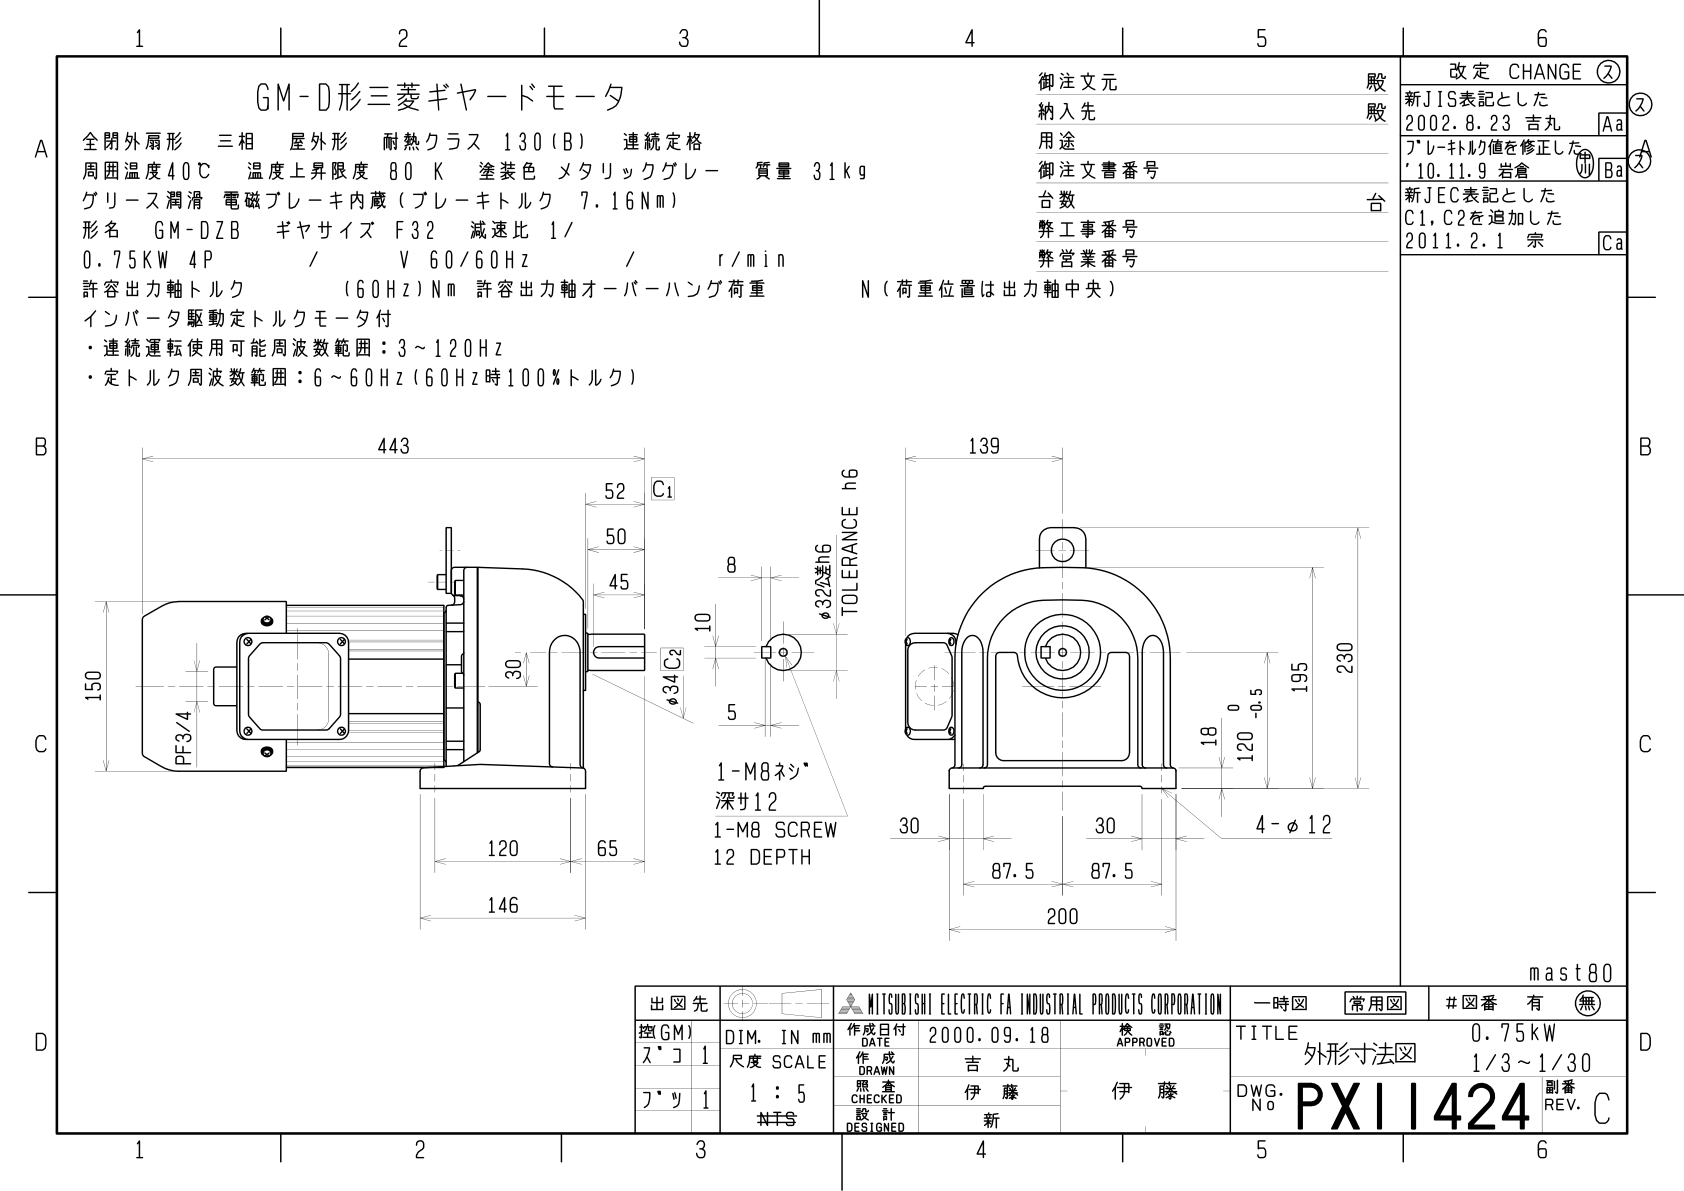GM_D_インバータ屋外_三相_脚: (10, 6, 1684, 1191)
